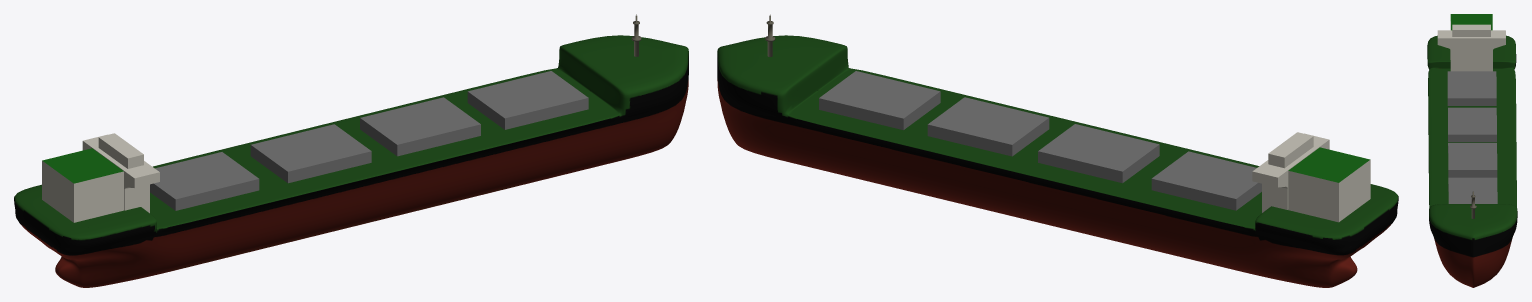
File: sanHuoShip.glb
3 renders of one model, left to right at view 1: azimuth 30°, elevation 25°; view 2: azimuth 150°, elevation 25°; view 3: azimuth 270°, elevation 25°, orthographic. The views are drawn at different scales.
Parts seen in each view (by area): view 1: 主体, 停机坪, 货仓.001, 货仓.003, 货仓.002, 货仓.004, 指挥室; view 2: 主体, 停机坪, 货仓.002, 货仓.001, 货仓.003, 货仓.004, 指挥室; view 3: 主体, 指挥室, 货仓.003, 货仓.004, 货仓.002, 货仓.001, 停机坪, 电线杆.
Boxes of the visible parts, x1,y1,x2,y2 form: 主体: (14,35,688,287); 停机坪: (42,148,123,222); 货仓.001: (467,71,588,129); 货仓.003: (250,124,371,183); 货仓.002: (360,97,480,156); 货仓.004: (150,152,259,210); 指挥室: (82,133,159,213); 主体: (717,35,1398,287); 停机坪: (1288,147,1370,222); 货仓.002: (927,97,1049,156); 货仓.001: (819,71,940,130); 货仓.003: (1038,124,1159,183); 货仓.004: (1151,151,1261,210); 指挥室: (1252,132,1329,212); 主体: (1427,35,1517,287); 指挥室: (1437,24,1505,71); 货仓.003: (1448,107,1496,142); 货仓.004: (1447,71,1496,105); 货仓.002: (1448,143,1497,177); 货仓.001: (1448,177,1497,203); 停机坪: (1450,14,1492,30); 电线杆: (1470,191,1476,218).
Size of the model in its own units: 20.4 by 4.1 by 3.69.
5 materials, 1 textured.
